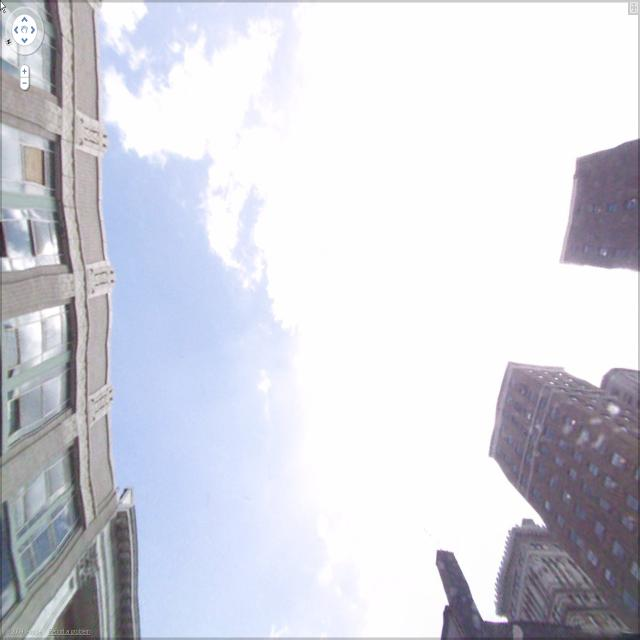b_1: (0, 15, 150, 624), (492, 347, 640, 594), (502, 534, 638, 640), (564, 134, 640, 274)
